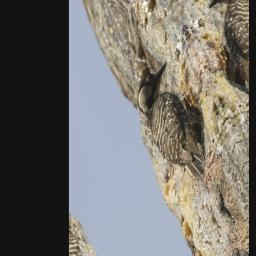Woodpecker: (131, 41, 222, 208)
